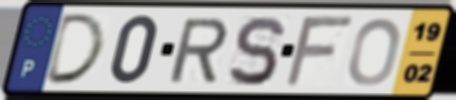0: (106, 13, 161, 87)
D: (41, 11, 109, 86)
F: (281, 13, 358, 90)
O: (346, 15, 404, 88)
R: (165, 15, 231, 85)
S: (225, 13, 287, 88)
